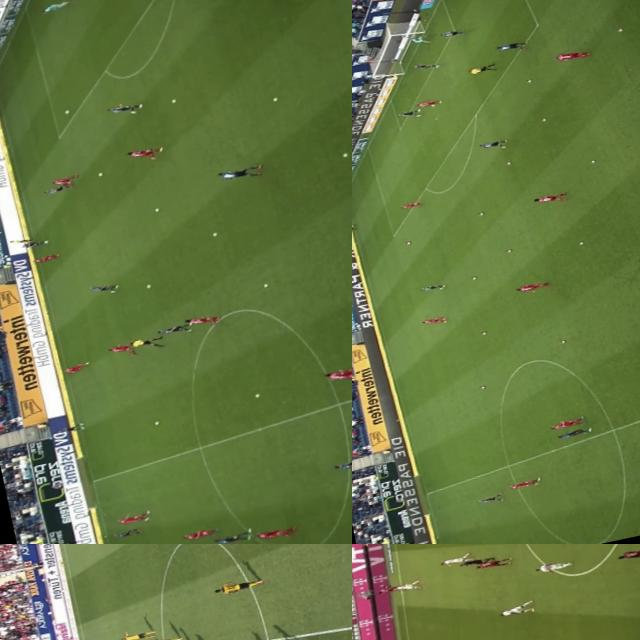ball: (270, 94, 278, 102), (60, 108, 70, 114), (150, 420, 160, 426), (94, 170, 103, 176), (144, 282, 153, 288), (260, 282, 269, 288), (340, 150, 349, 156), (616, 26, 624, 32), (588, 158, 596, 164), (210, 230, 217, 236), (558, 339, 566, 344), (168, 98, 177, 102), (540, 116, 546, 122), (503, 160, 512, 164), (253, 392, 260, 397), (152, 206, 160, 210), (480, 330, 488, 334), (526, 77, 532, 82), (506, 248, 512, 253), (404, 240, 411, 244), (477, 211, 483, 215), (471, 276, 477, 279), (479, 385, 485, 388), (578, 240, 582, 244), (638, 297, 640, 301)
player: (212, 576, 264, 598), (215, 163, 264, 183), (321, 362, 352, 389), (126, 144, 164, 163), (494, 600, 534, 618), (254, 524, 292, 542), (215, 527, 255, 544), (108, 100, 145, 118), (534, 558, 572, 574), (548, 415, 588, 430), (472, 556, 512, 570), (158, 320, 192, 336), (532, 190, 566, 206), (516, 278, 552, 293), (438, 552, 476, 566), (181, 526, 216, 540), (118, 626, 153, 640), (109, 341, 141, 356), (506, 476, 542, 489), (614, 544, 640, 562), (555, 48, 586, 63), (90, 280, 122, 294), (187, 312, 219, 326), (116, 510, 148, 524), (496, 38, 526, 52), (411, 58, 441, 72), (476, 138, 506, 152), (557, 427, 593, 438), (476, 492, 506, 505), (331, 453, 352, 471), (393, 579, 420, 592), (420, 314, 448, 326), (43, 184, 74, 194), (64, 361, 92, 372), (42, 1, 70, 12), (378, 582, 406, 593), (57, 422, 84, 433), (440, 27, 464, 39), (416, 98, 442, 109), (419, 282, 444, 293), (52, 174, 74, 186), (22, 238, 48, 248), (35, 252, 61, 262), (144, 633, 181, 640), (398, 108, 420, 119), (410, 33, 430, 45), (113, 528, 139, 537), (399, 200, 421, 209)
